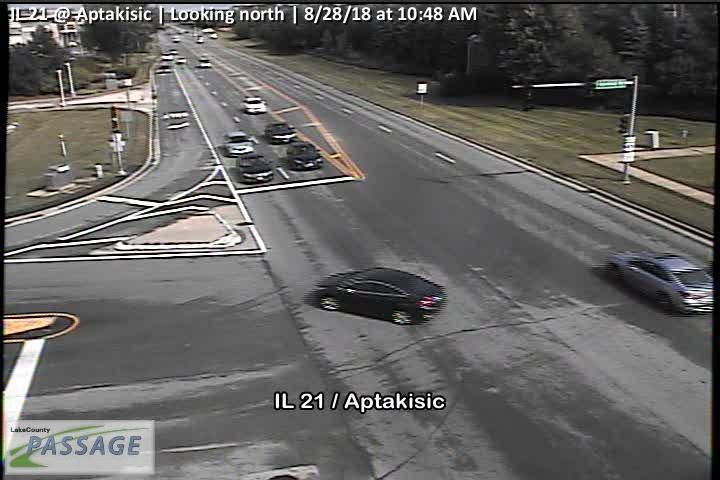Sedan: (312, 266, 448, 327), (606, 250, 713, 315), (238, 153, 273, 182), (287, 142, 322, 170), (222, 131, 253, 155), (263, 120, 294, 143), (243, 96, 268, 115)
